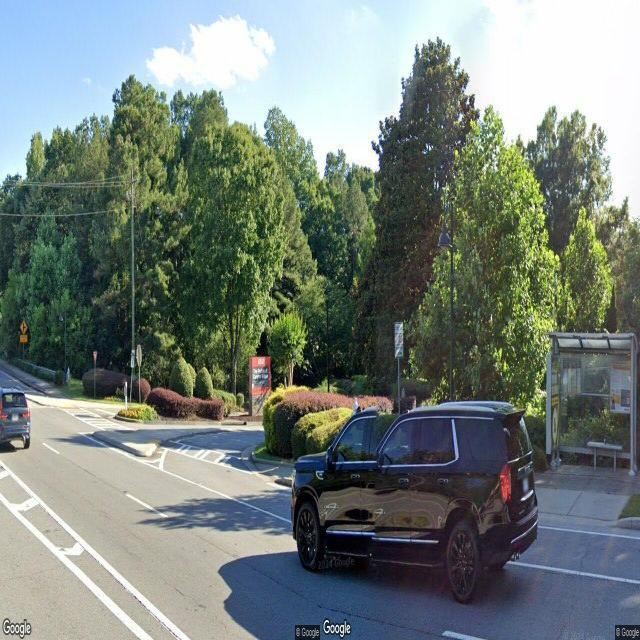seating: (587, 440, 623, 472)
shelter: (544, 333, 638, 479)
